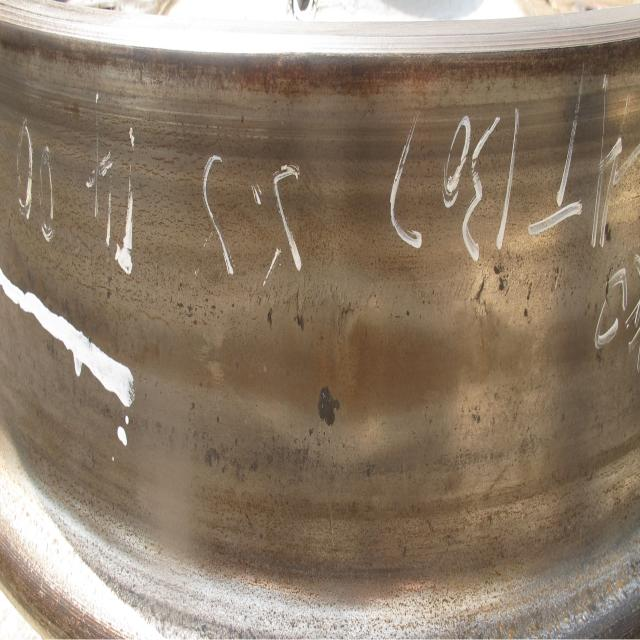Contact_Fatigue_Cracks: (246, 283, 358, 337), (470, 261, 563, 306)
